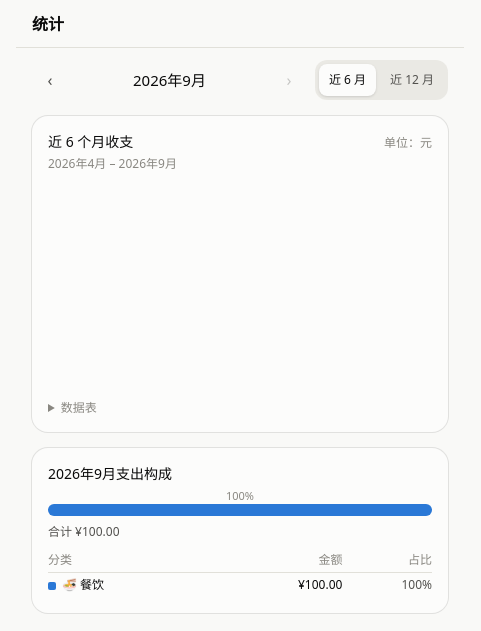
Test case: 过滤区 › 切到近 12 月后趋势变长，标题与区间文案一起更新
Click the button "近 12 月". click: point(412, 80)
box: left=380, top=64, right=444, bottom=96
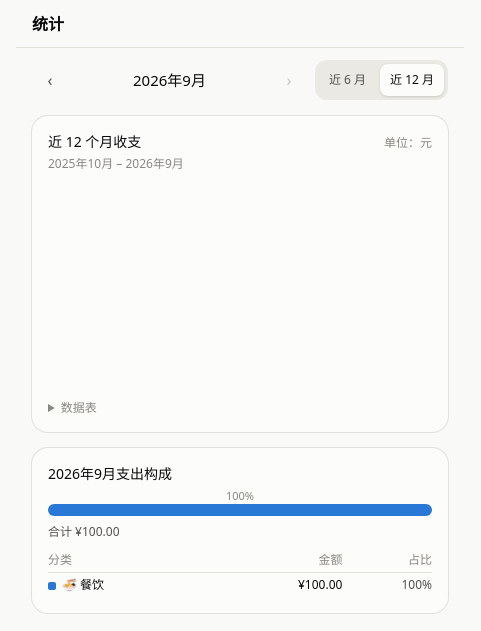
Result: the text "近 12 个月收支" is shown at left=48, top=132, right=141, bottom=152
